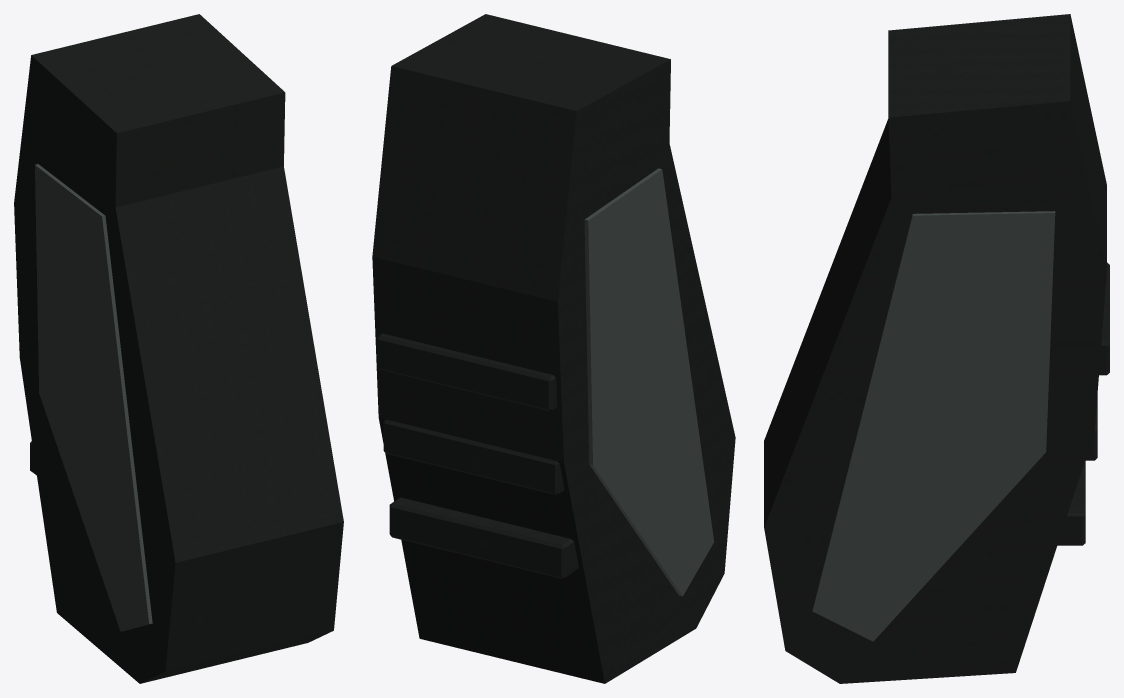
Rendered from ar_ergo.glb.
3 renders of one model, left to right at view 1: azimuth 30°, elevation 25°; view 2: azimuth 150°, elevation 25°; view 3: azimuth 270°, elevation 25°, orthographic. The views are drawn at different scales.
Parts seen in each view (by area): view 1: ar_ergo_item_profile, ar_ergo_item_profile.001, ar_ergo_molded_panel; view 2: ar_ergo_item_profile, ar_ergo_item_profile.001, ar_ergo_molded_panel; view 3: ar_ergo_item_profile, ar_ergo_item_profile.001, ar_ergo_molded_panel.
Boxes of the visible parts, bbox=[...] form: ar_ergo_item_profile: bbox=[16, 23, 337, 675]; ar_ergo_item_profile.001: bbox=[14, 14, 343, 683]; ar_ergo_molded_panel: bbox=[35, 164, 152, 631]; ar_ergo_item_profile: bbox=[377, 18, 732, 676]; ar_ergo_item_profile.001: bbox=[372, 14, 735, 683]; ar_ergo_molded_panel: bbox=[584, 168, 714, 596]; ar_ergo_item_profile: bbox=[777, 19, 1109, 675]; ar_ergo_item_profile.001: bbox=[764, 14, 1106, 683]; ar_ergo_molded_panel: bbox=[812, 211, 1055, 641].
Size of the model in its own units: 0.0708 by 0.212 by 0.114.
2 materials, 1 textured.
